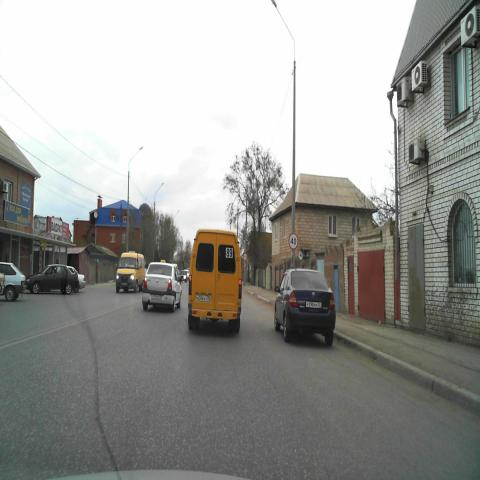3_24: (288, 233, 299, 250)
